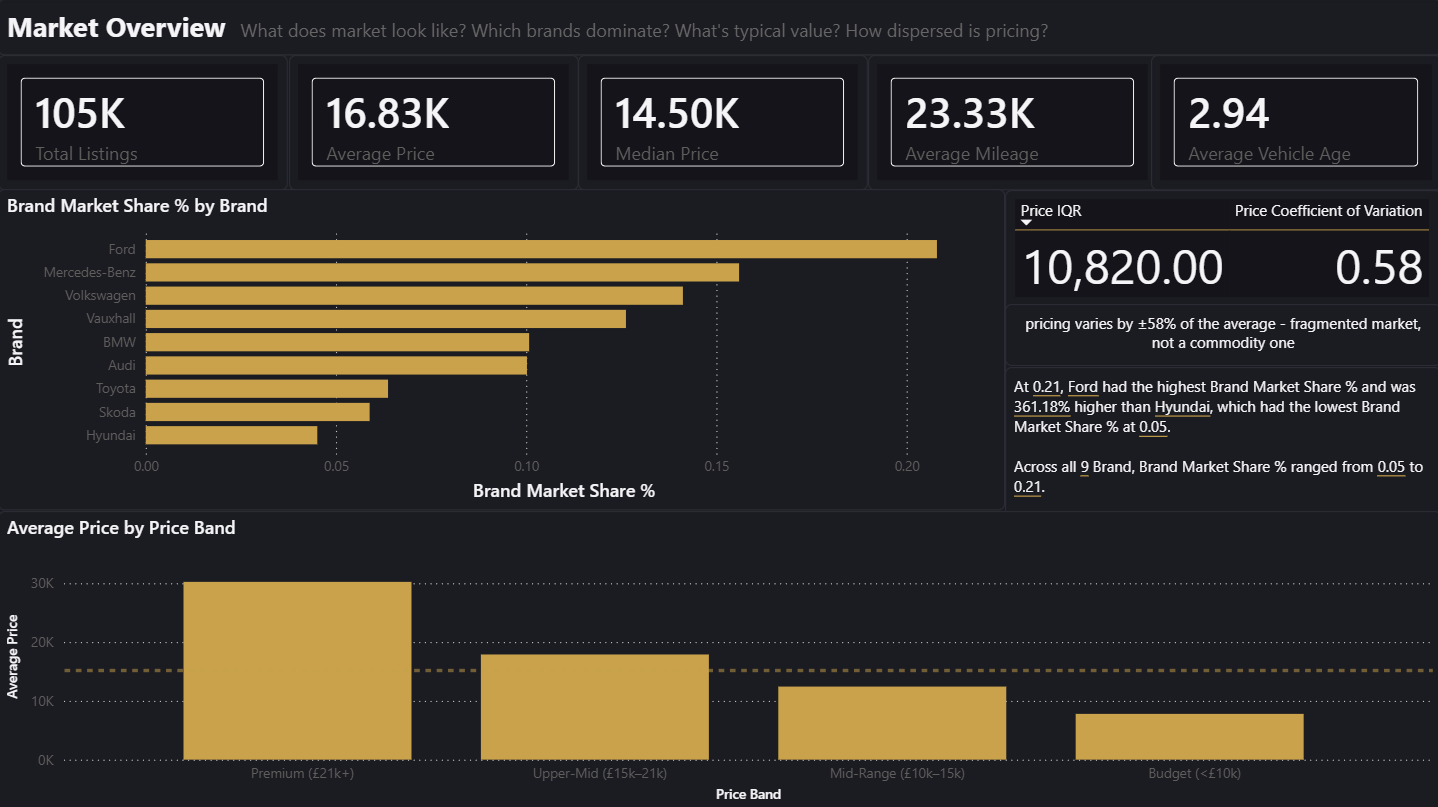

This screenshot's page, from the dashboard's own definition file:
{"tool":"powerbi","page":{"name":"Page 1","canvas":[1280,720],"ordinal":0},"visuals":[{"type":"cardVisual","fields":{"Data":["Measure_s.Total Listings"]},"box":[0,49.6,256.8,119.6],"z":0},{"type":"cardVisual","fields":{"Data":["Measure_s.Average Price"]},"box":[257.8,49.6,256.8,119.6],"z":1000},{"type":"cardVisual","fields":{"Data":["Measure_s.Median Price"]},"box":[514.5,49.6,256.8,119.6],"z":2000},{"type":"cardVisual","fields":{"Data":["Measure_s.Average Mileage"]},"box":[771.3,49.6,256.8,119.6],"z":3000},{"type":"cardVisual","fields":{"Data":["Measure_s.Average Vehicle Age"]},"box":[1022.2,49.6,257.8,119.6],"z":4000},{"type":"shape","box":[0,0,1280,49.6],"z":5000},{"type":"textbox","box":[0,0,1280,49.6],"z":6000},{"type":"barChart","fields":{"Y":["Measure_s.Brand Market Share %"],"Category":["Dim_Model.Brand"]},"box":[0,168.7,893.1,285],"z":7000},{"type":"tableEx","fields":{"Values":["Measure_s.Price IQR","Measure_s.Price Coefficient of Variation"]},"box":[893.1,169.8,386.9,284],"z":8000},{"type":"textbox","box":[893.1,270.6,386.9,54.5],"z":9000},{"type":"textbox","box":[893.1,326.2,386.9,167.7],"z":10000},{"type":"clusteredColumnChart","fields":{"Category":["Fact_Cars.Price Band"],"Y":["Measure_s.Average Price"]},"box":[0,453.8,1280,266.5],"z":11000}]}

Visuals, with their boxes in screenshot pixels (x1, y1, x2, y2), scaled from the page's 1280x720 canvas onto the 1438x807 screenshot:
cardVisual - Measure_s.Total Listings: l=0, t=56, r=288, b=190
cardVisual - Measure_s.Average Price: l=290, t=56, r=578, b=190
cardVisual - Measure_s.Median Price: l=578, t=56, r=867, b=190
cardVisual - Measure_s.Average Mileage: l=867, t=56, r=1155, b=190
cardVisual - Measure_s.Average Vehicle Age: l=1148, t=56, r=1437, b=190
shape: l=0, t=0, r=1437, b=56
textbox: l=0, t=0, r=1437, b=56
barChart - Measure_s.Brand Market Share % x Dim_Model.Brand: l=0, t=189, r=1003, b=509
tableEx - Measure_s.Price IQR x Measure_s.Price Coefficient of Variation: l=1003, t=190, r=1437, b=509
textbox: l=1003, t=303, r=1437, b=364
textbox: l=1003, t=366, r=1437, b=554
clusteredColumnChart - Fact_Cars.Price Band x Measure_s.Average Price: l=0, t=509, r=1437, b=806
